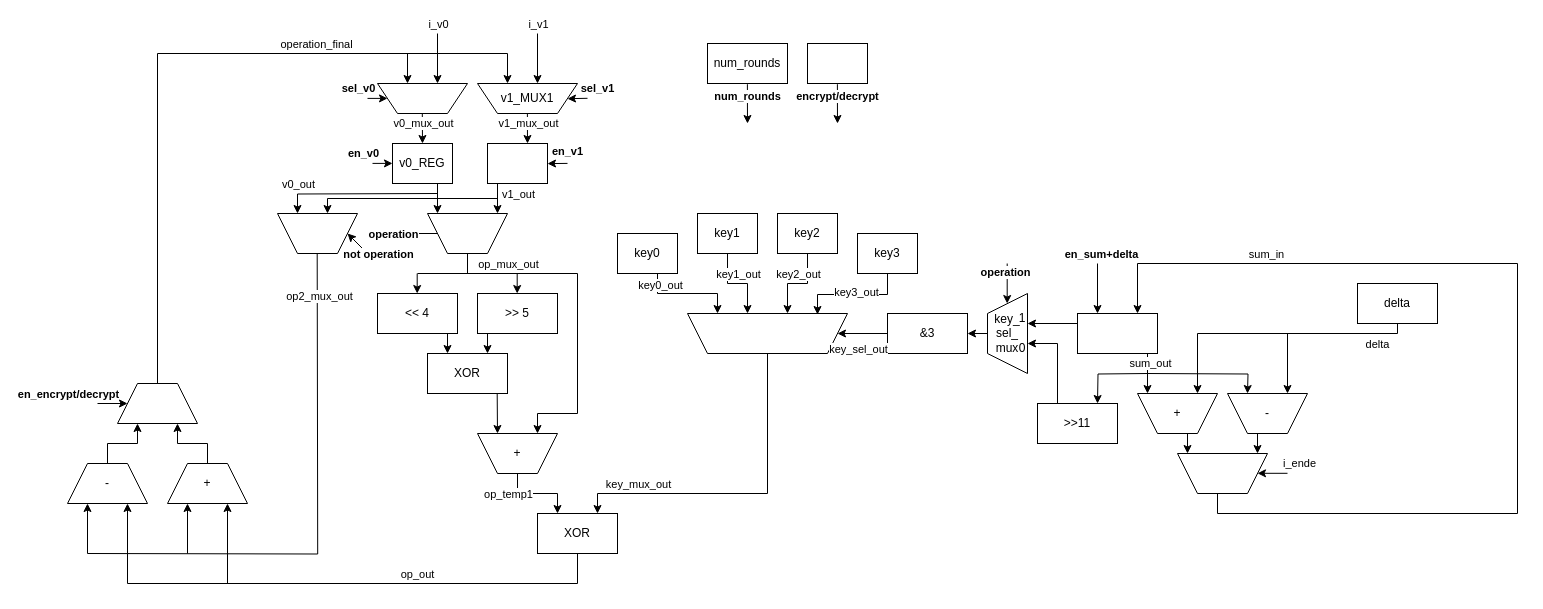
Image size: 1543x609. Some labels were removed from this diagram. The shapes that lost their labels are listed below. From the top down, each one's centre as x and y in pixels, then its label:
the point at 837,63: decrypt /encrypt
the point at 422,98: v0_MUX
the point at 517,163: v1_REG
the point at 317,233: op2_mux
the point at 467,233: op_mux
the point at 767,333: key_mux
the point at 1117,333: sum_reg
the point at 157,403: to_reg _mux
the point at 1222,473: sum_delta _mux
